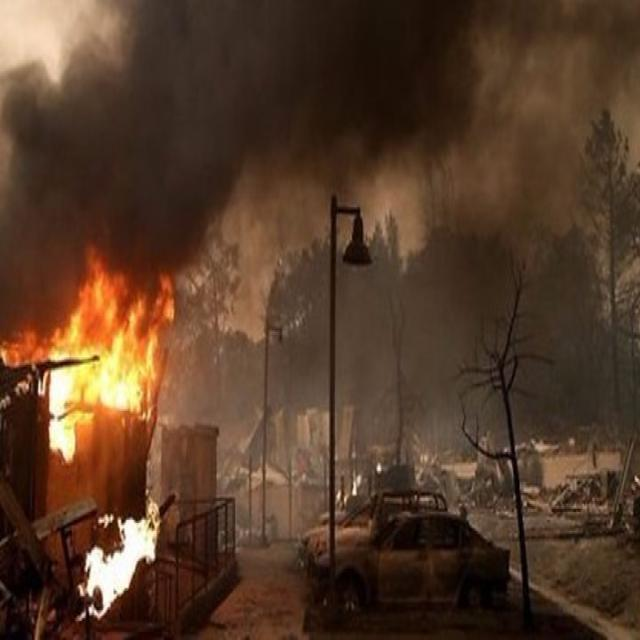Fire: (0, 242, 174, 463), (76, 496, 162, 623)
Smoke: (0, 0, 485, 343)
